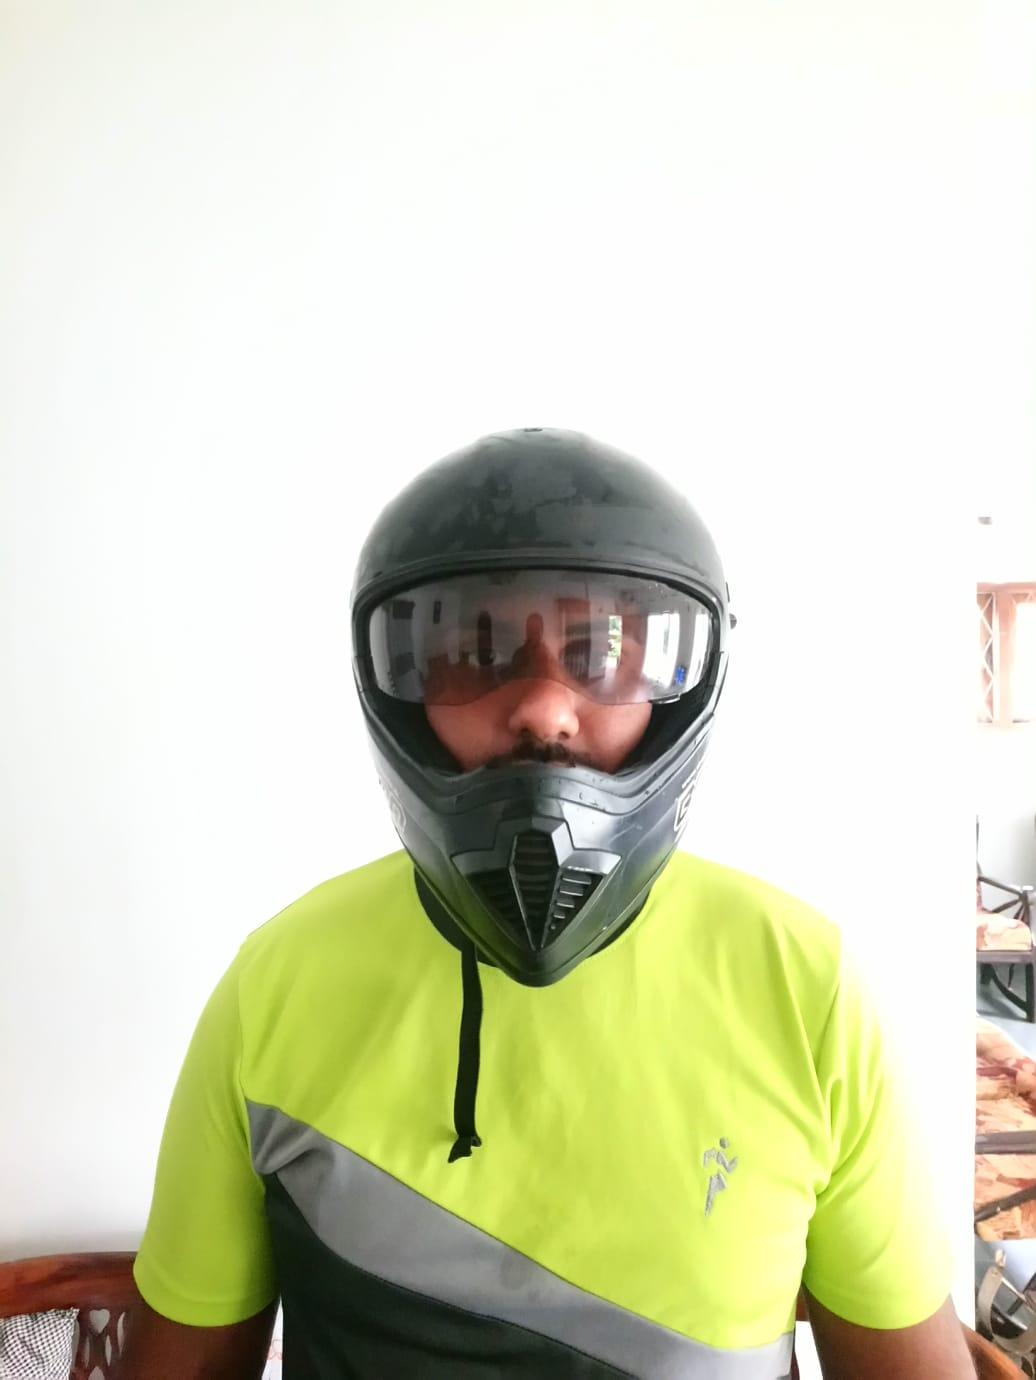helmet: (359, 426, 737, 988)
